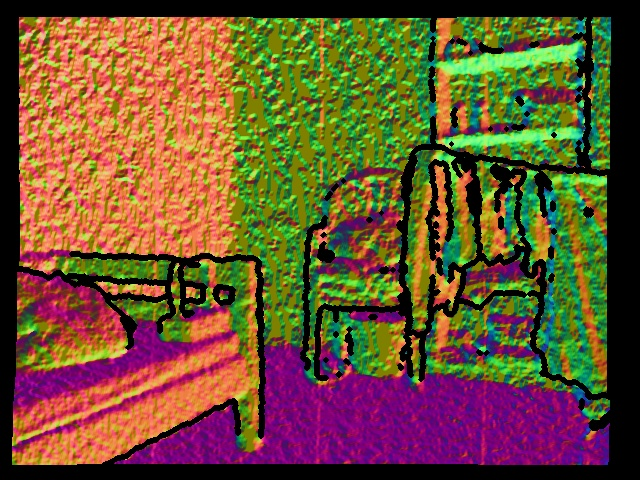station: (159, 259, 233, 342)
